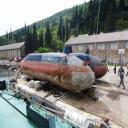submarine: (15, 54, 97, 94), (49, 47, 111, 79)
